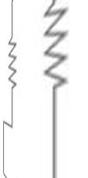resistor: (2, 37, 23, 84)
